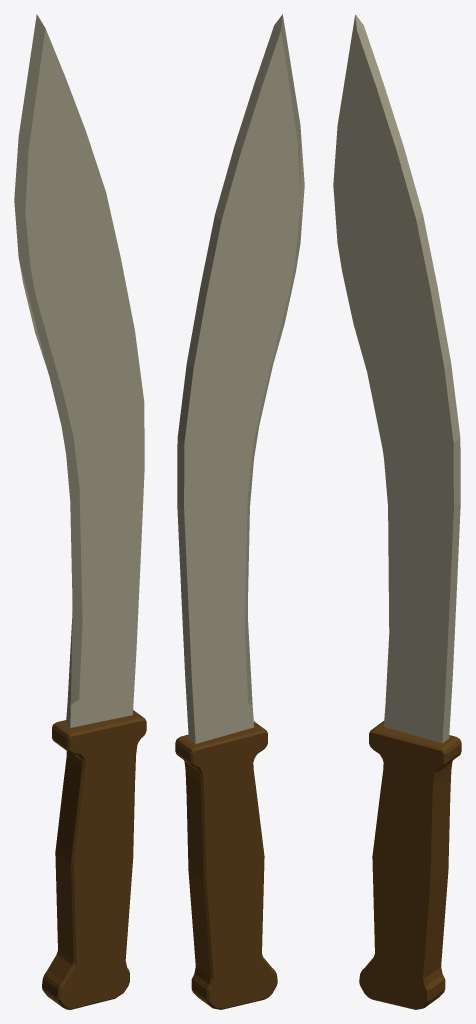
The model's file is machete-2.fbx.
The picture shows the model from 3 angles, left to right: view 1: azimuth 30°, elevation 25°; view 2: azimuth 210°, elevation 25°; view 3: azimuth 330°, elevation 25°; orthographic projection. The views are drawn at different scales.
Visible parts, largest first — view 1: machete-2; view 2: machete-2; view 3: machete-2.
Boxes of the visible parts, x1,y1,x2,y2 form: machete-2: (14,14,146,1009); machete-2: (175,14,304,1009); machete-2: (333,14,461,1009).
Bounding box in the file's own units: 64.98 × 487 × 15.7.
